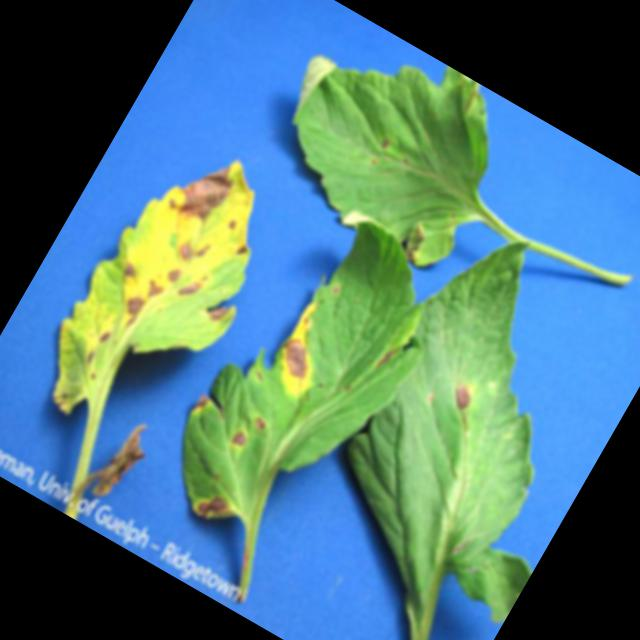Early_blight: (261, 300, 346, 403), (157, 139, 246, 233), (79, 408, 158, 505), (190, 483, 236, 527), (170, 225, 214, 268), (174, 265, 216, 307), (446, 377, 482, 417), (114, 290, 149, 330), (201, 296, 232, 327), (374, 340, 402, 373), (141, 275, 171, 304), (186, 388, 214, 418), (225, 424, 252, 452), (115, 256, 140, 281), (160, 261, 184, 286), (94, 323, 117, 346), (372, 132, 395, 155), (250, 413, 271, 435), (224, 214, 242, 233), (233, 240, 249, 259)
